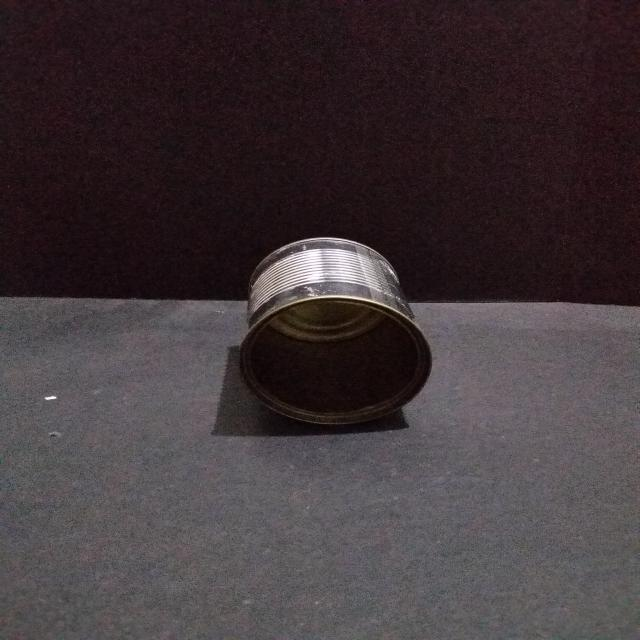metal-can: (238, 233, 435, 425)
